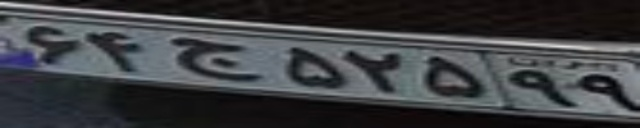2: (343, 48, 405, 91)
4: (83, 29, 146, 74)
5: (413, 53, 484, 97), (279, 46, 346, 88)
6: (20, 24, 79, 66)
9: (575, 70, 638, 111), (506, 67, 571, 106)
jim: (168, 36, 260, 82)
